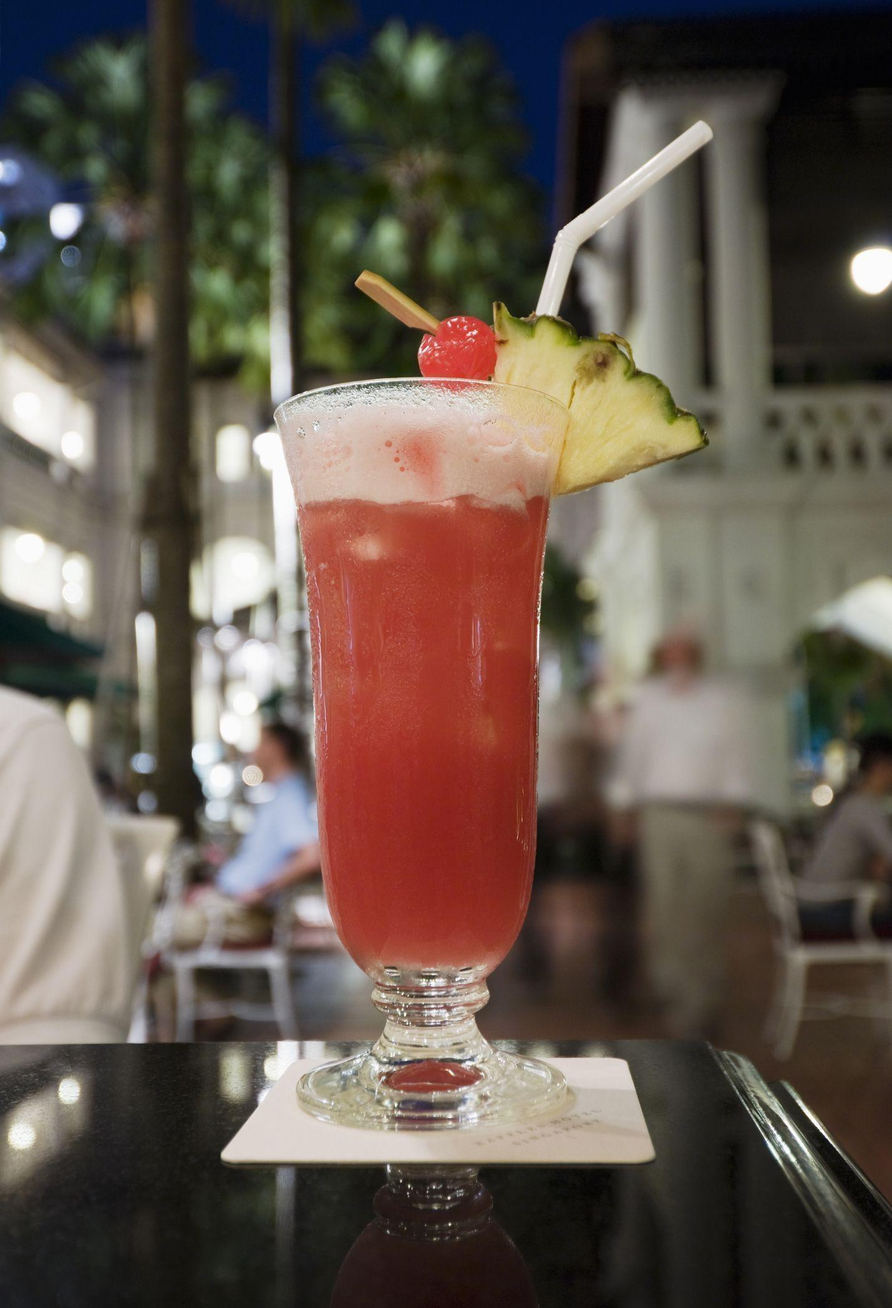glass-wine: (260, 372, 576, 1127)
